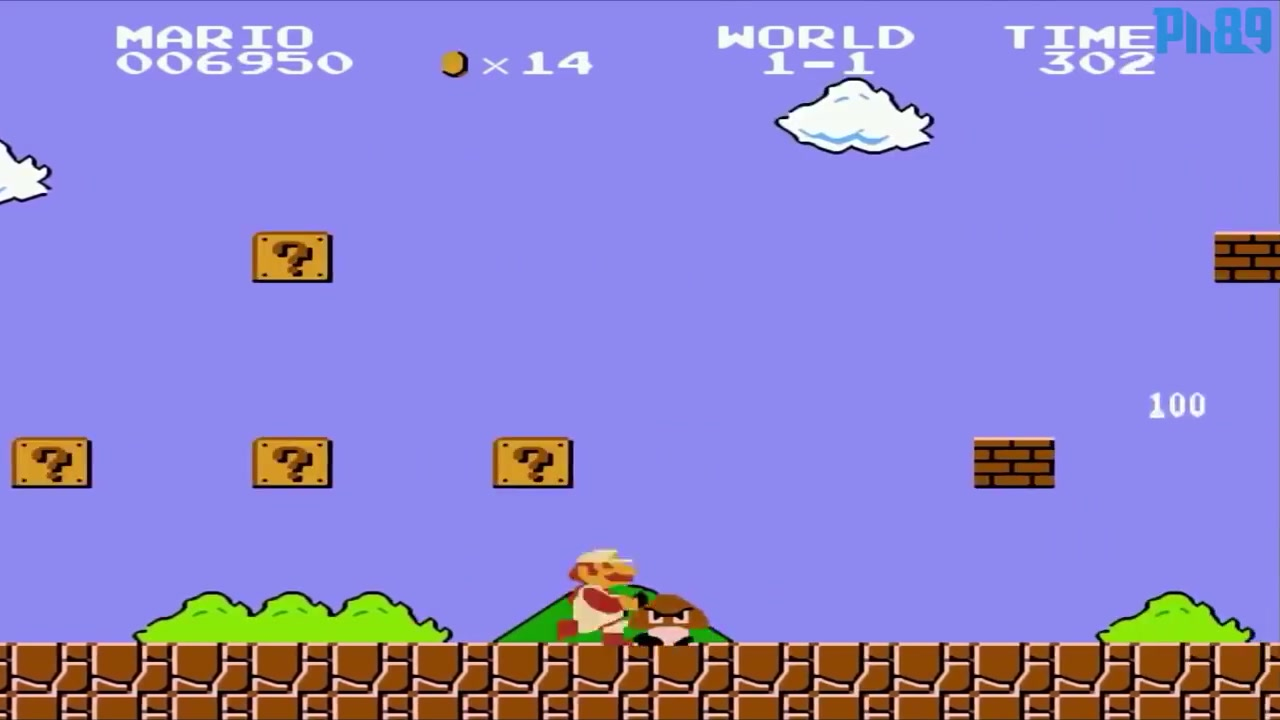mario: (555, 540, 647, 647)
